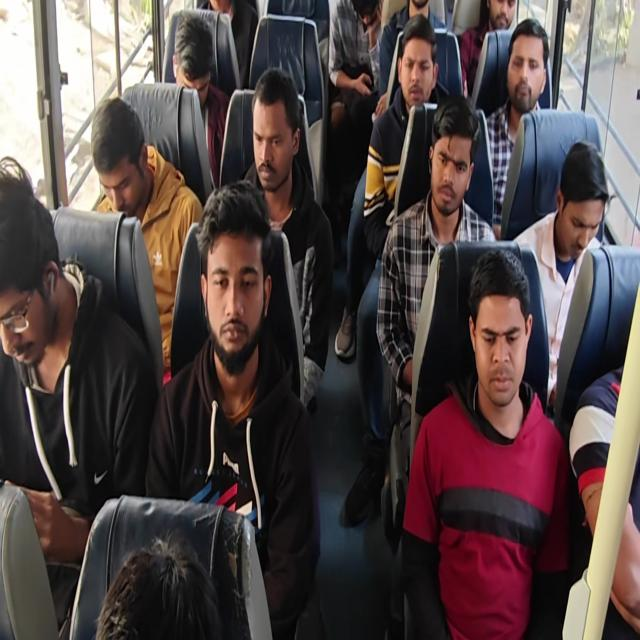person: (81, 513, 227, 640), (1, 147, 64, 396), (199, 171, 269, 380), (458, 241, 534, 410), (87, 90, 155, 220), (417, 82, 476, 214), (249, 50, 297, 192), (558, 147, 612, 264), (166, 6, 222, 113), (387, 9, 444, 96), (507, 6, 545, 119), (346, 0, 386, 37), (488, 0, 524, 28)
